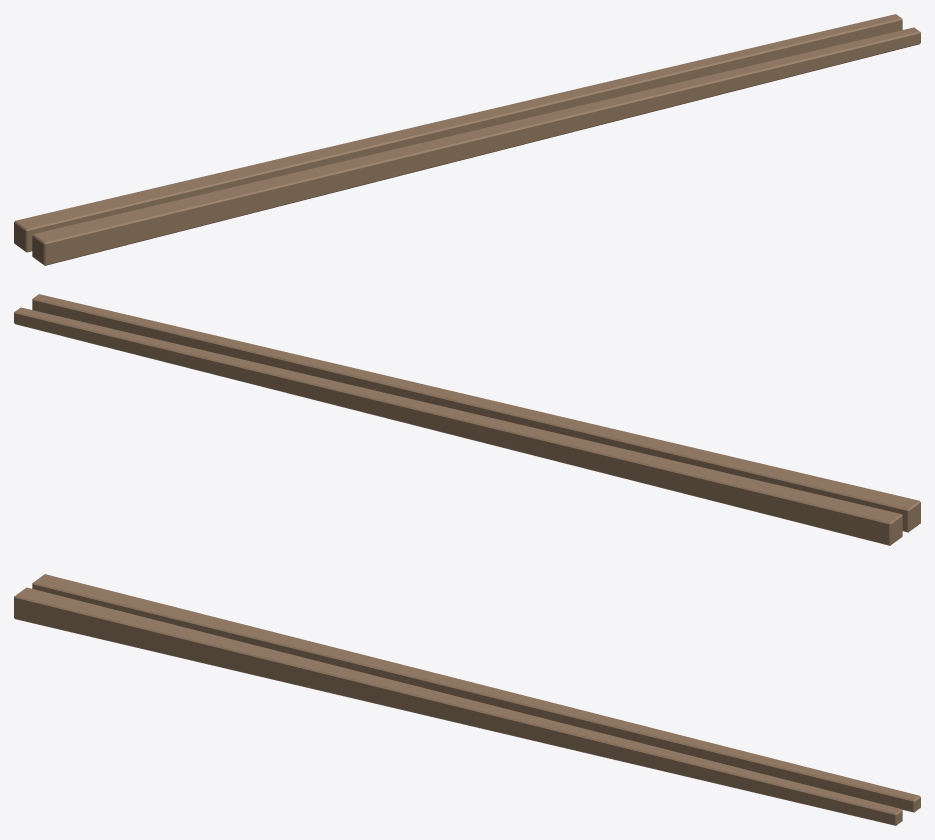
File: B2A-1_Chopstick.fbx
The picture shows the model from 3 angles, top to bottom: view 1: azimuth 30°, elevation 25°; view 2: azimuth 150°, elevation 25°; view 3: azimuth 330°, elevation 25°; orthographic projection.
Visible parts, largest first — view 1: pCube3; view 2: pCube3; view 3: pCube3.
Boxes of the visible parts, x1=… form: pCube3: x1=14, y1=14, x2=920, y2=265; pCube3: x1=14, y1=294, x2=920, y2=545; pCube3: x1=14, y1=574, x2=920, y2=825.
Bounding box in the file's own units: 0.9999 × 0.0254 × 0.0612.
